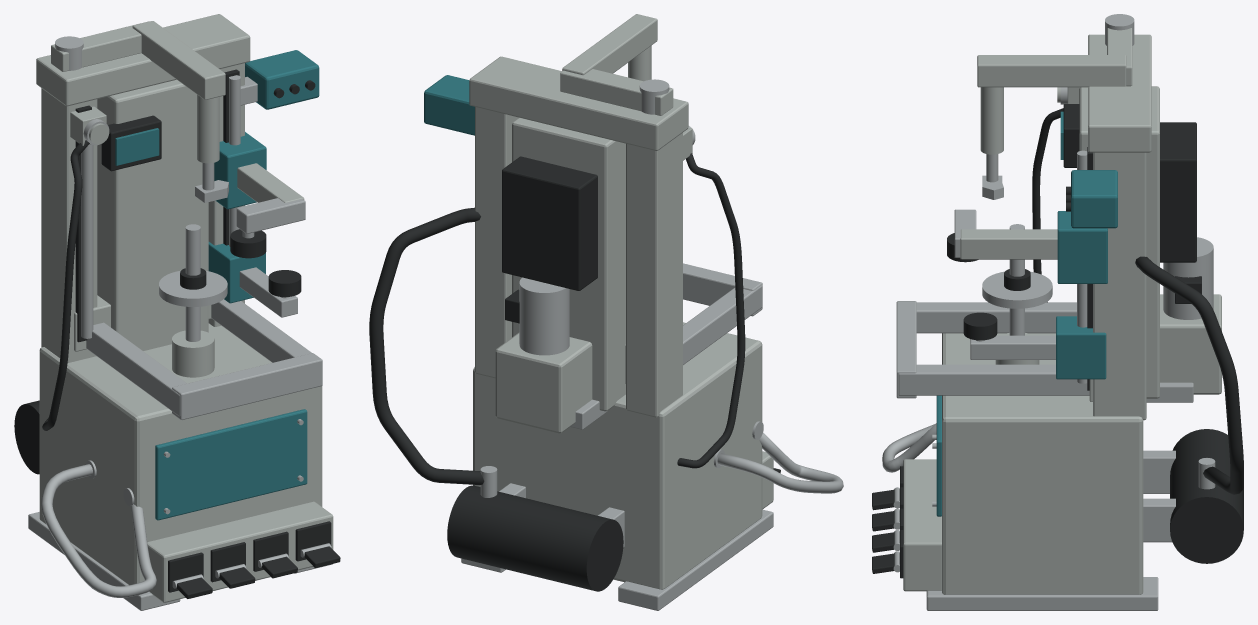
3 views of the same model, side by side, from view 1: azimuth 30°, elevation 25°; view 2: azimuth 150°, elevation 25°; view 3: azimuth 270°, elevation 25° (orthographic). The views are drawn at different scales.
Parts seen in each view (by area): view 1: Lower machine cabinet, Central rear housing, Front service panel, Rear outer guide column -0.26, Upper connecting bridge, Front pedal housing, Front lift crossbar, Low attached wheel lift cradle, Forward lift rail -0.22, Forward mounting arm, Upper side control pod, Forward lift rail 0.22 (+35 smaller); view 2: Lower machine cabinet, Rear outer guide column -0.26, Central rear housing, Attached horizontal rear air tank, Rear closed electrical enclosure, Upper connecting bridge, Rear outer guide column 0.26, Rear hydraulic reservoir, Rear broad hose loop, Rear motor exterior, Left hanging inflation hose, Ground mounting foot -0.27 (+8 smaller); view 3: Lower machine cabinet, Rear outer guide column 0.26, Attached horizontal rear air tank, Upper connecting bridge, Forward lift rail 0.22, Rear closed electrical enclosure, Forward mounting arm, Front pedal housing, Central rear housing, Rear broad hose loop, Ground mounting foot 0.27, Rear hydraulic reservoir (+23 smaller).
Part boxes in pixels (<box>): Lower machine cabinet: <box>39,323,322,585</box>; Central rear housing: <box>97,79,208,350</box>; Front service panel: <box>155,409,307,520</box>; Rear outer guide column -0.26: <box>41,88,97,362</box>; Upper connecting bridge: <box>36,14,250,106</box>; Front pedal housing: <box>147,501,333,602</box>; Front lift crossbar: <box>172,353,322,419</box>; Low attached wheel lift cradle: <box>41,464,156,597</box>; Forward lift rail -0.22: <box>86,322,186,416</box>; Forward mounting arm: <box>132,21,225,99</box>; Upper side control pod: <box>245,50,319,109</box>; Forward lift rail 0.22: <box>211,299,311,362</box>; Lower machine cabinet: <box>473,322,762,589</box>; Rear outer guide column -0.26: <box>626,132,682,417</box>; Central rear housing: <box>512,117,625,411</box>; Attached horizontal rear air tank: <box>447,485,623,591</box>; Rear closed electrical enclosure: <box>502,156,597,290</box>; Upper connecting bridge: <box>469,56,688,150</box>; Rear outer guide column 0.26: <box>475,107,518,378</box>; Rear hydraulic reservoir: <box>495,332,592,433</box>; Rear broad hose loop: <box>369,207,484,484</box>; Rear motor exterior: <box>519,277,569,355</box>; Left hanging inflation hose: <box>677,153,745,468</box>; Ground mounting foot -0.27: <box>618,509,773,610</box>; Lower machine cabinet: <box>942,333,1143,594</box>; Rear outer guide column 0.26: <box>1093,152,1146,420</box>; Attached horizontal rear air tank: <box>1170,429,1243,563</box>; Upper connecting bridge: <box>1088,34,1151,152</box>; Forward lift rail 0.22: <box>898,364,1089,395</box>; Rear closed electrical enclosure: <box>1160,122,1196,262</box>; Forward mounting arm: <box>977,55,1126,87</box>; Front pedal housing: <box>903,459,941,591</box>; Central rear housing: <box>1079,86,1159,398</box>; Rear broad hose loop: <box>1135,256,1243,494</box>; Ground mounting foot 0.27: <box>926,577,1158,610</box>; Rear hydraulic reservoir: <box>1160,294,1221,394</box>.
Bounding box in the file's own units: 1.1 × 1.67 × 1.11.
